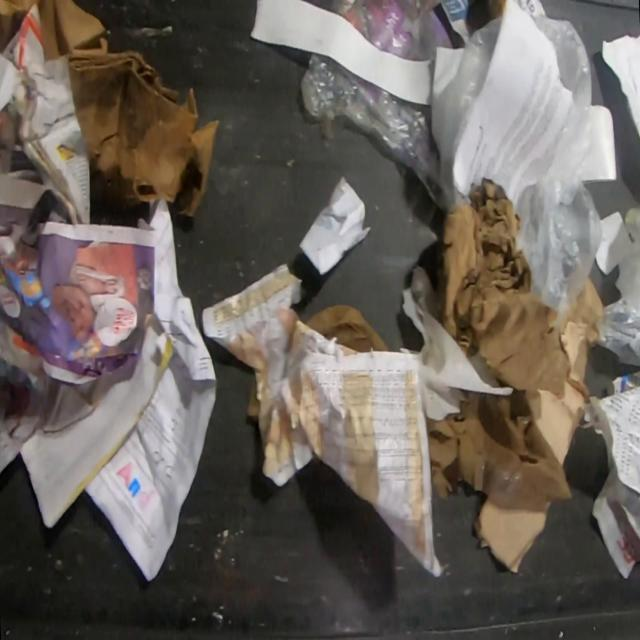cardboard: (40, 1, 219, 218), (440, 177, 560, 391), (528, 275, 606, 464), (476, 491, 549, 573)
soft_plastic: (516, 17, 602, 311), (300, 51, 450, 212), (440, 13, 504, 205), (331, 0, 442, 61)
